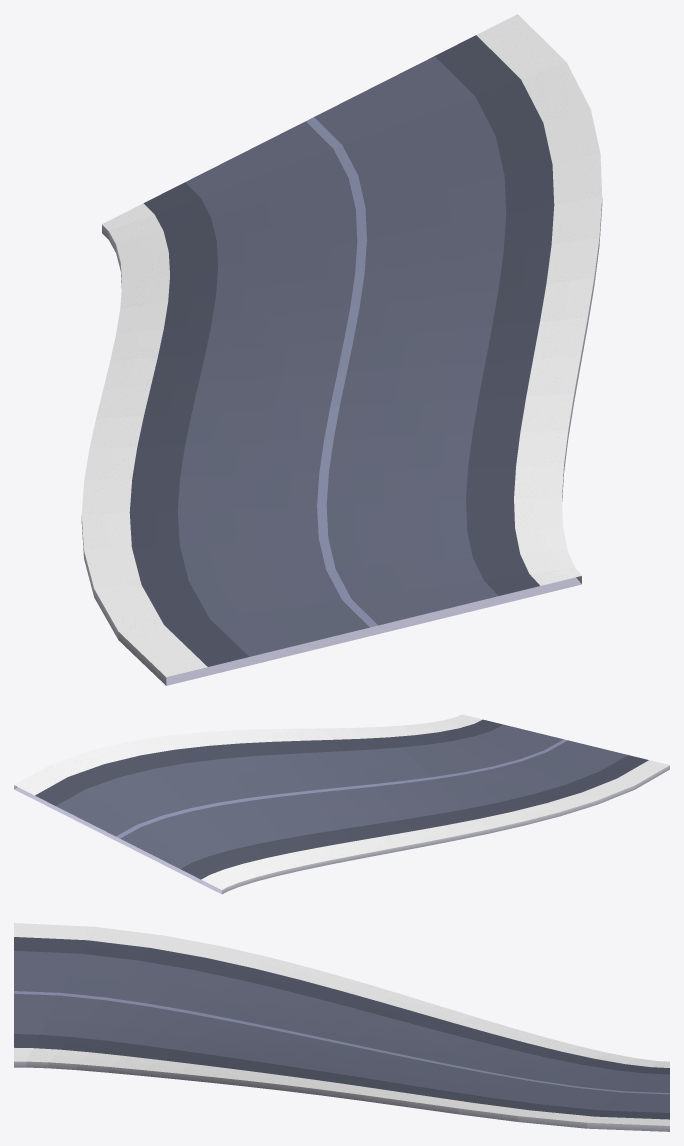
File: road-Chicane-Flat-HalfBankedLeft-Even-Right1-Size2.glb
3 views of the same model, one above another, from view 1: azimuth 30°, elevation 25°; view 2: azimuth 150°, elevation 25°; view 3: azimuth 270°, elevation 25° (orthographic). The views are drawn at different scales.
Visible parts, largest first — view 1: road-Chicane-Flat-HalfBankedLeft-Even-Right1-Size2; view 2: road-Chicane-Flat-HalfBankedLeft-Even-Right1-Size2; view 3: road-Chicane-Flat-HalfBankedLeft-Even-Right1-Size2.
Boxes of the visible parts, <box> form: road-Chicane-Flat-HalfBankedLeft-Even-Right1-Size2: <box>81,14,602,685</box>; road-Chicane-Flat-HalfBankedLeft-Even-Right1-Size2: <box>14,714,669,894</box>; road-Chicane-Flat-HalfBankedLeft-Even-Right1-Size2: <box>14,923,669,1131</box>.
Size of the model in its own units: 2 by 0.27 by 2.
Materials: 1 (1 with a texture image).
